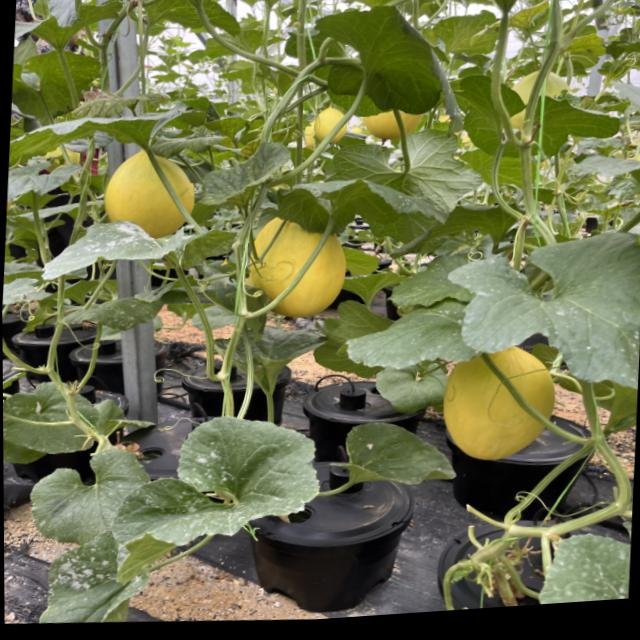CMV: (190, 134, 296, 211)
downy mildew: (421, 206, 640, 400), (354, 305, 481, 375), (529, 528, 632, 605), (38, 564, 160, 629)
healthy: (307, 0, 449, 124), (255, 169, 469, 235), (324, 120, 471, 211), (27, 443, 149, 550), (9, 96, 181, 168), (10, 40, 118, 132), (340, 416, 459, 492), (230, 0, 303, 12)
powdery mildew: (134, 411, 339, 552), (42, 208, 221, 284), (56, 284, 160, 342)
